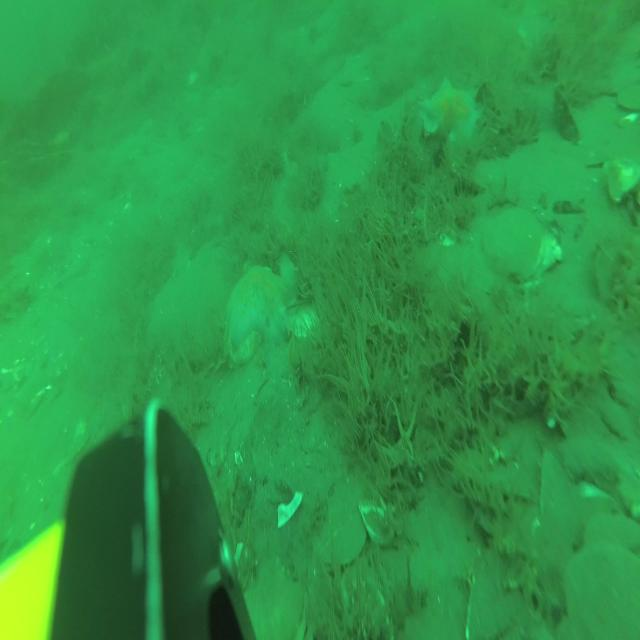scallop: (559, 545, 640, 640), (480, 203, 561, 279), (232, 567, 306, 640)
starfish: (223, 262, 294, 354), (420, 75, 479, 144)
